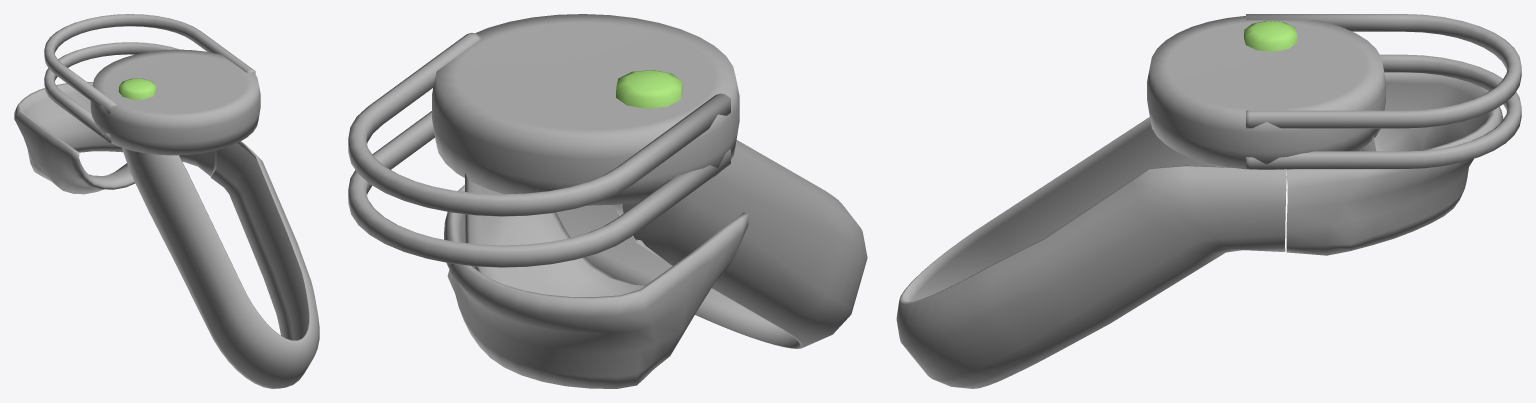
The model's file is NeedleController1.fbx.
3 renders of one model, left to right at view 1: azimuth 30°, elevation 25°; view 2: azimuth 150°, elevation 25°; view 3: azimuth 270°, elevation 25°, orthographic. The views are drawn at different scales.
Parts seen in each view (by area): view 1: right quest 2 controller lowpoly.007; view 2: right quest 2 controller lowpoly.007; view 3: right quest 2 controller lowpoly.007.
Part boxes in pixels (<box>): right quest 2 controller lowpoly.007: <box>14,14,319,388</box>; right quest 2 controller lowpoly.007: <box>348,14,867,388</box>; right quest 2 controller lowpoly.007: <box>896,14,1521,388</box>.
Size of the model in its own units: 6.3 by 8.2 by 13.78.
